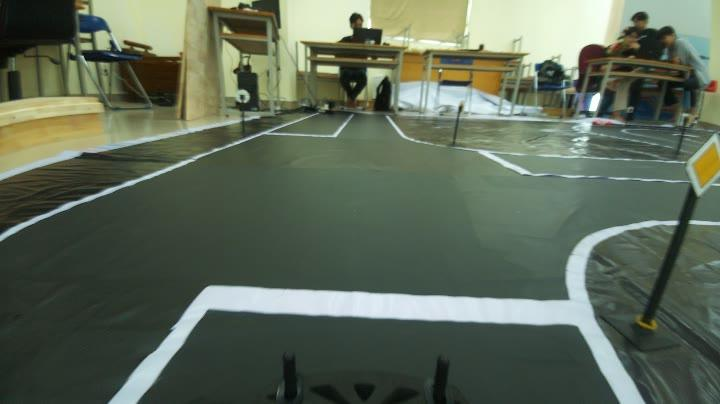priority: (685, 130, 720, 197)
